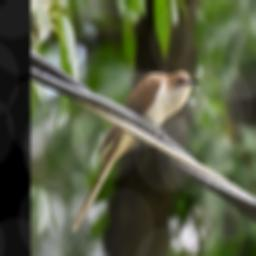Cuckoo: (69, 68, 202, 235)
